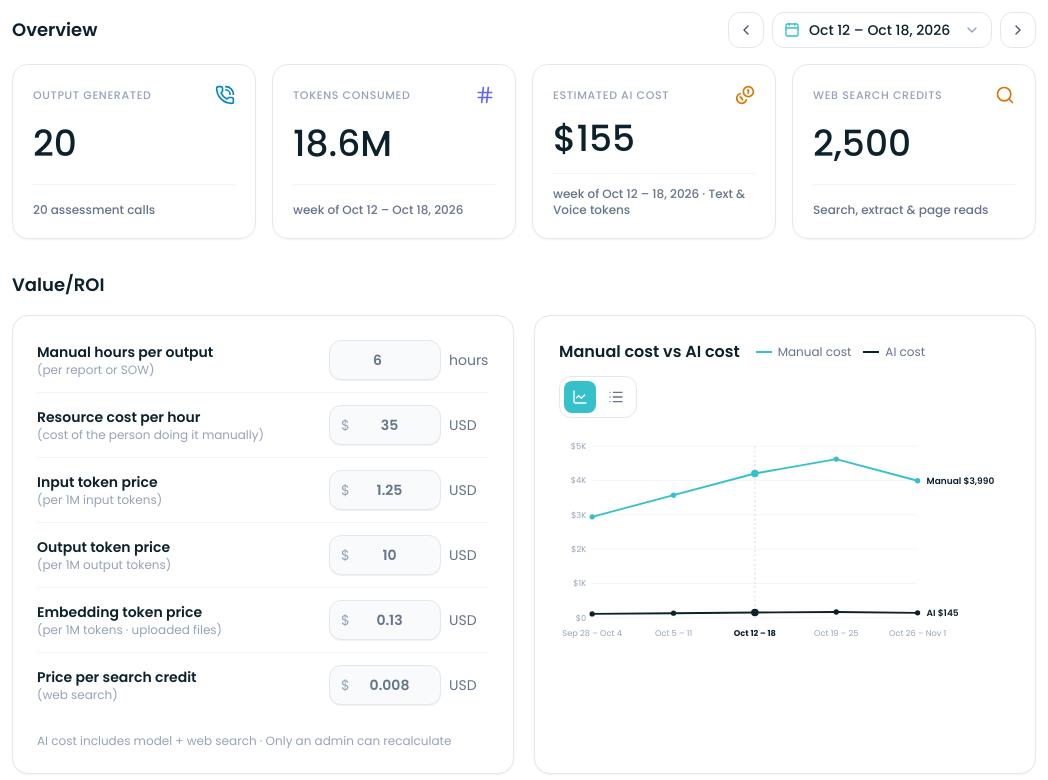
Test case: UsageInsightsScreen › switches between the chart and the summary
Check: the picture named "Manual cost versus AI cost" is shown, box [559,434,1011,645]
Click the button named "Summary" at (616, 397), box [600,381,632,413]
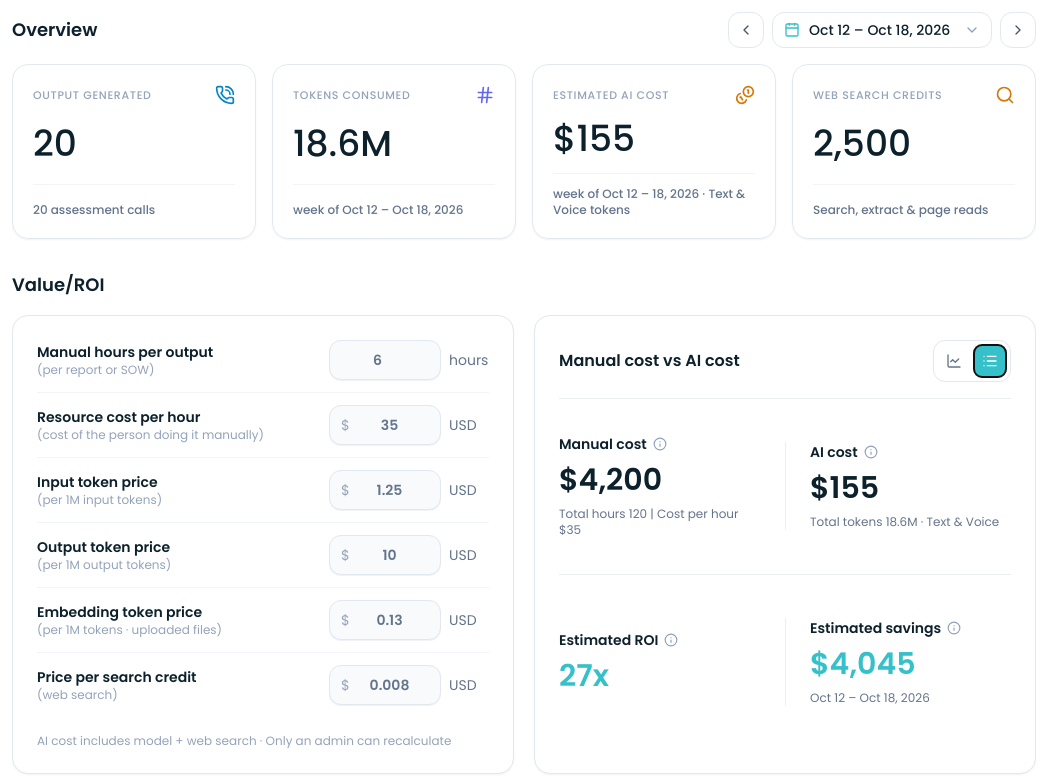
Check: the text "Estimated savings" is shown, box [810,618,961,638]
Click the button named "Chart" at (954, 361), box [938,345,970,377]
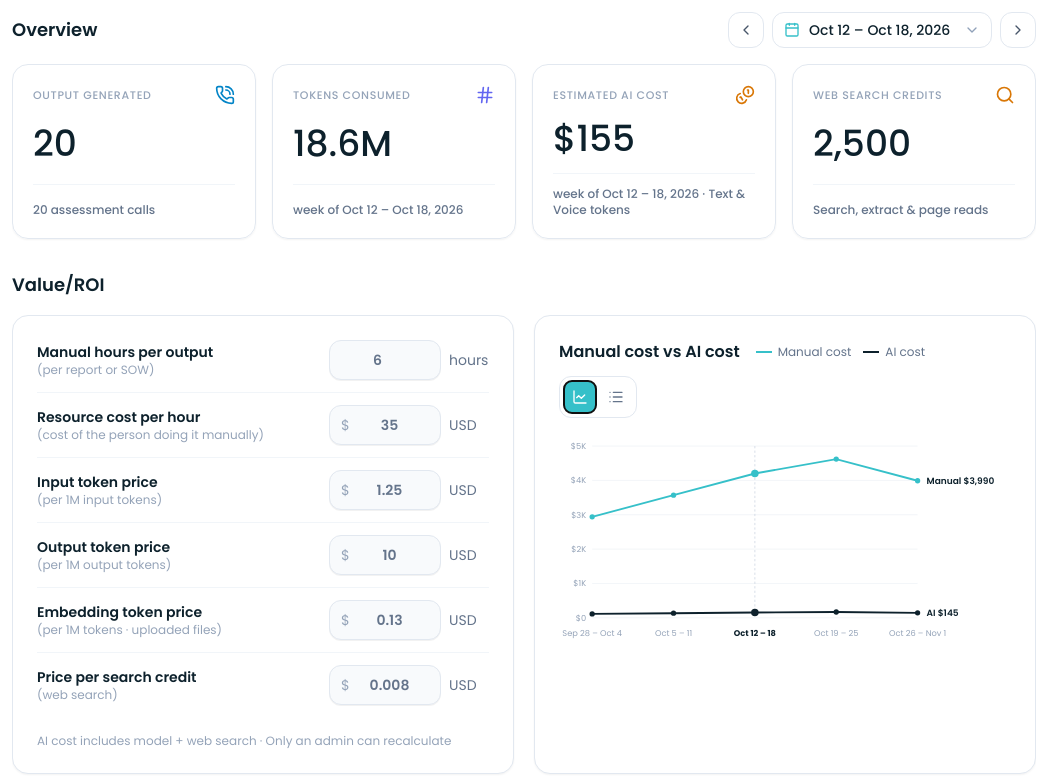
Check: the picture named "Manual cost versus AI cost" is shown, box [559,434,1011,645]
